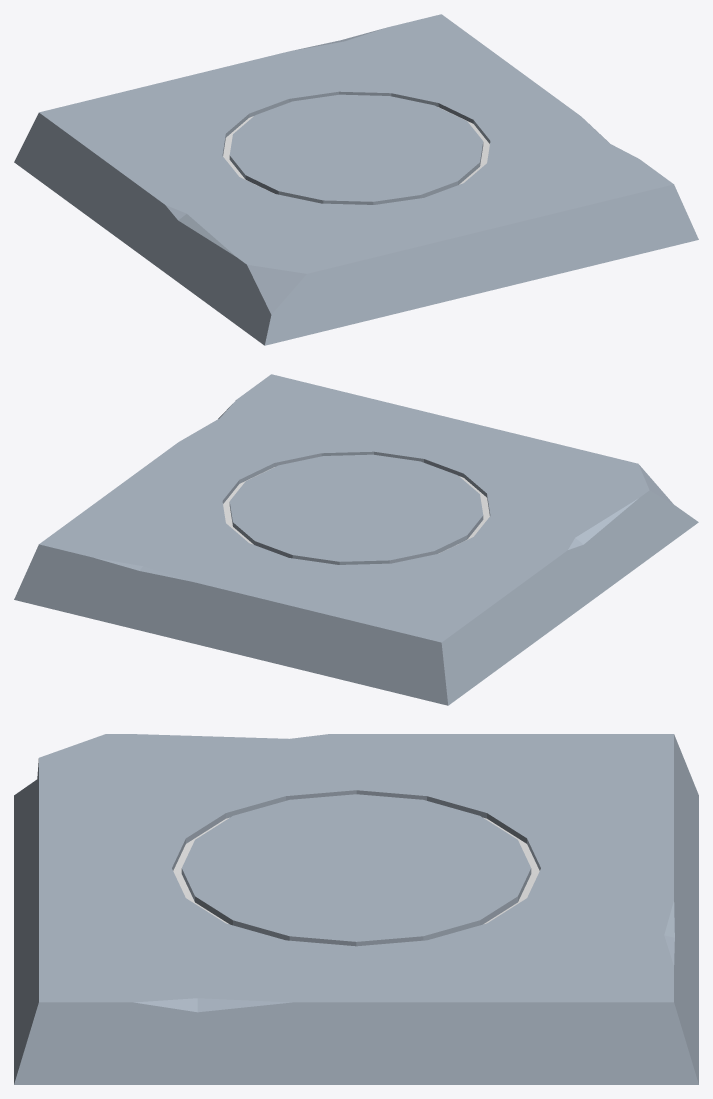
The model's file is plate_3.fbx.
The picture shows the model from 3 angles, top to bottom: view 1: azimuth 30°, elevation 25°; view 2: azimuth 150°, elevation 25°; view 3: azimuth 270°, elevation 25°; orthographic projection. The views are drawn at different scales.
Visible parts, largest first — view 1: plate_3; view 2: plate_3; view 3: plate_3.
Part boxes in pixels (x1,y1,x2,y2): plate_3: (14, 14, 698, 345); plate_3: (14, 374, 698, 705); plate_3: (14, 734, 698, 1084).
Size of the model in its own units: 8.63 by 1 by 8.63.
